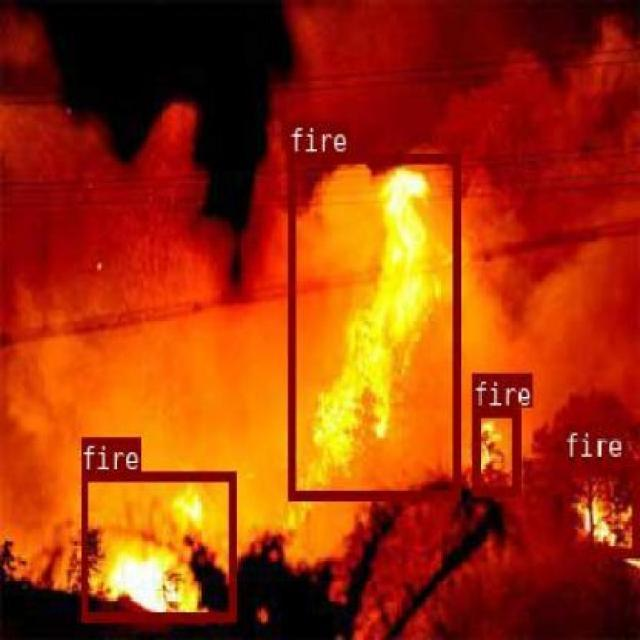Fire: (287, 152, 458, 498), (80, 469, 234, 620), (561, 458, 637, 556), (472, 407, 518, 495)
Smoke: (12, 105, 236, 398), (302, 18, 618, 130), (494, 179, 624, 363)
